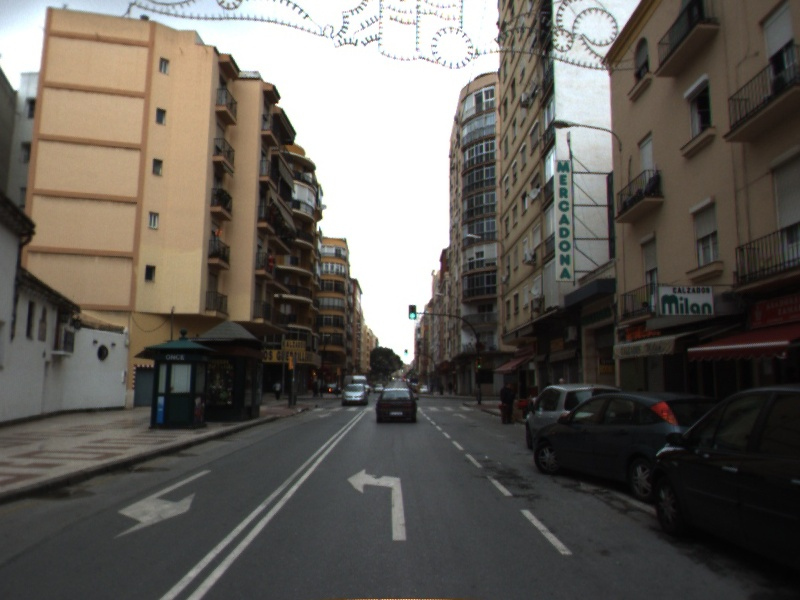LEFT: (345, 467, 408, 542)
